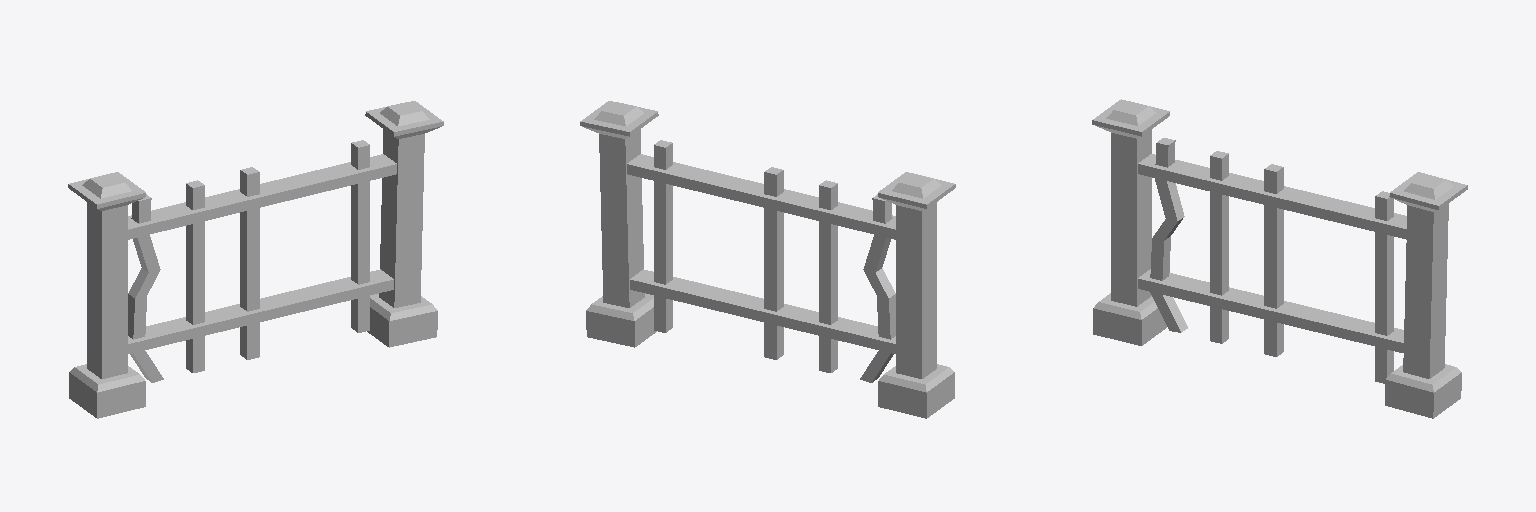
Rendered from Fence_Cemetery3.obj.
The picture shows the model from 3 angles: view 1: azimuth 30°, elevation 25°; view 2: azimuth 150°, elevation 25°; view 3: azimuth 330°, elevation 25°; orthographic projection.
Parts seen in each view (by area): view 1: Fence_Cmentary_03; view 2: Fence_Cmentary_03; view 3: Fence_Cmentary_03.
Boxes of the visible parts, <box> form: Fence_Cmentary_03: <box>68,101,443,418</box>; Fence_Cmentary_03: <box>580,101,955,418</box>; Fence_Cmentary_03: <box>1092,99,1467,418</box>.
Bounding box in the file's own units: 30.06 × 18.52 × 4.29.